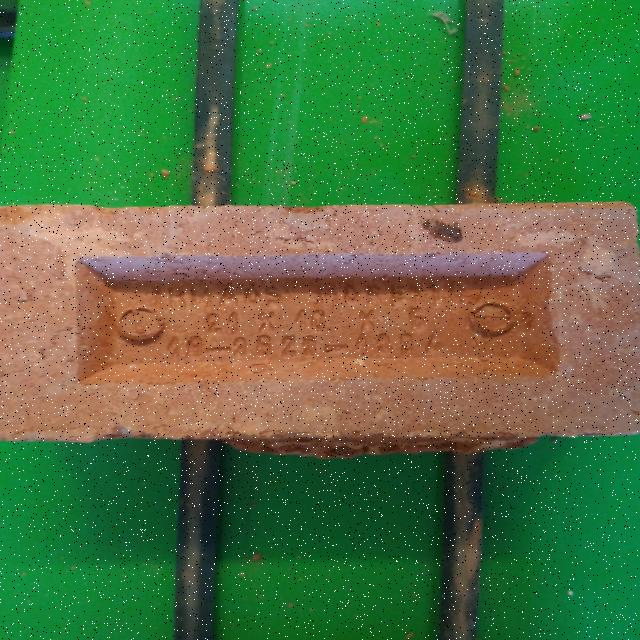bricks_ruin: (0, 199, 640, 460)
